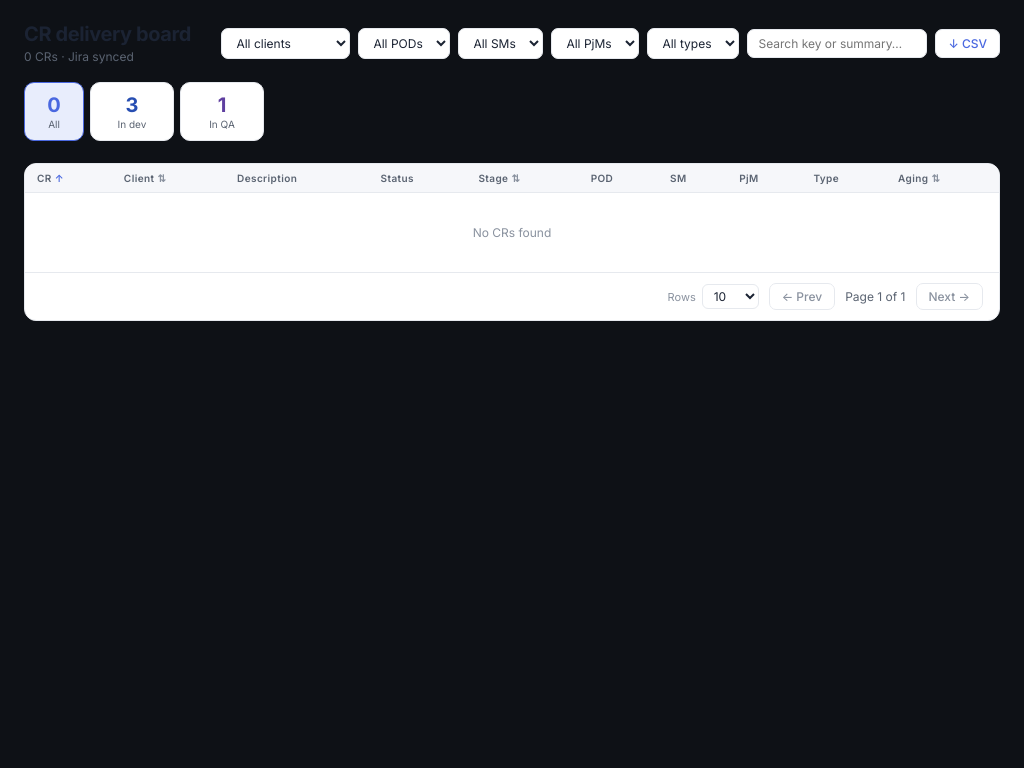
CSV export button › shows toast on export failure
Click the button "↓ CSV".
click(968, 43)  # box top-left (935, 28), bottom-right (1000, 58)
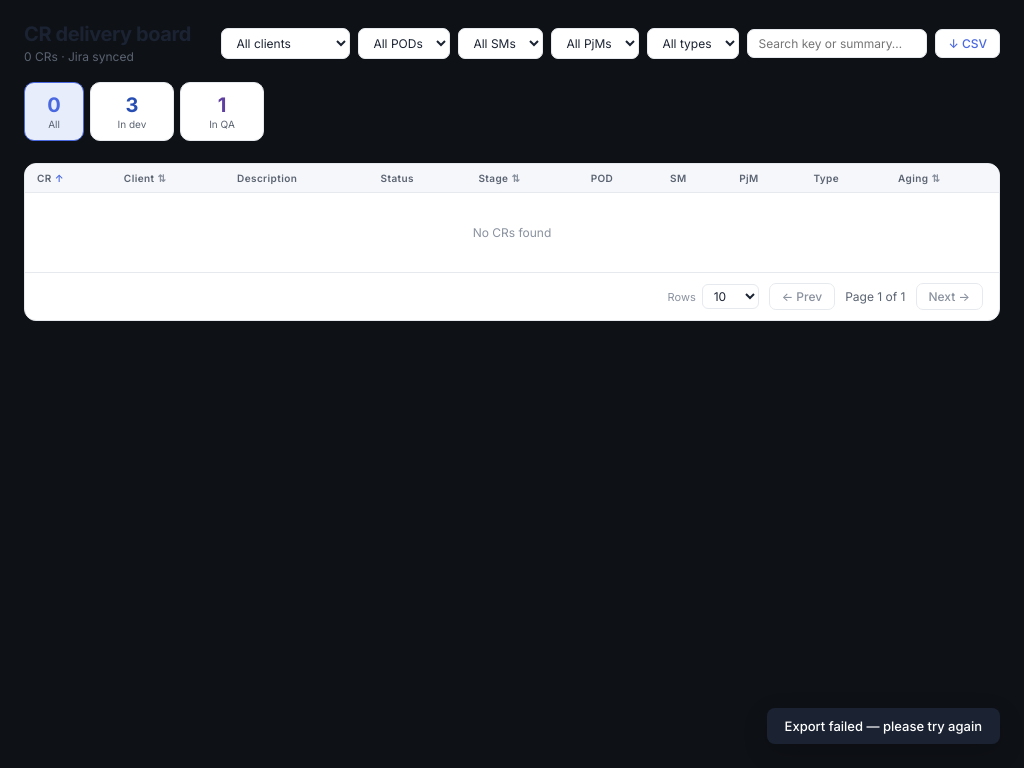
Result: the text "Export failed — please try again" is shown at top-left (767, 708), bottom-right (1000, 744)
